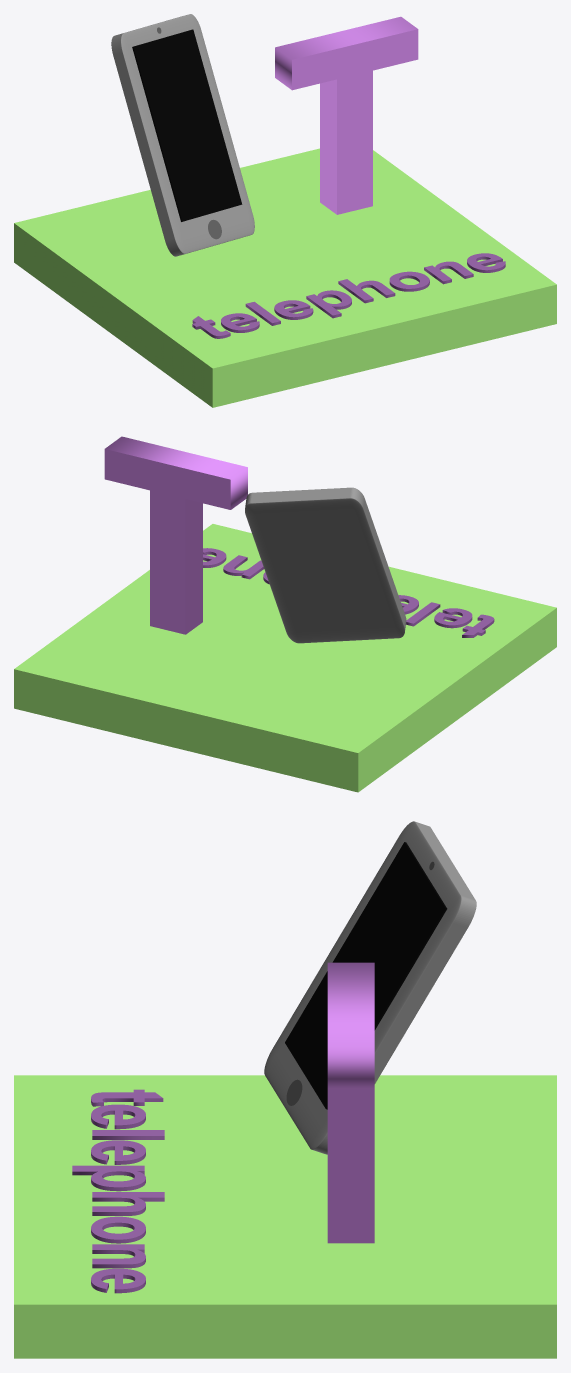
File: tletter.glb
3 views of the same model, one above another, from view 1: azimuth 30°, elevation 25°; view 2: azimuth 150°, elevation 25°; view 3: azimuth 270°, elevation 25° (orthographic). The views are drawn at different scales.
Visible parts, largest first — view 1: Cube.022, Text.003, Cube.002, Cube.001, Text.002; view 2: Cube.022, Cube.001, Text.003, Text.002; view 3: Cube.022, Text.003, Cube.001, Cube.002, Text.002.
Part boxes in pixels (left/top/right/bottom): Cube.022: left=14, top=148, right=556, bottom=407; Text.003: left=275, top=16, right=418, bottom=214; Cube.002: left=132, top=29, right=242, bottom=221; Cube.001: left=111, top=14, right=254, bottom=256; Text.002: left=192, top=253, right=505, bottom=338; Cube.022: left=14, top=524, right=556, bottom=792; Cube.001: left=245, top=487, right=406, bottom=643; Text.003: left=104, top=436, right=247, bottom=634; Text.002: left=203, top=548, right=494, bottom=637; Cube.022: left=14, top=1075, right=556, bottom=1358; Text.003: left=327, top=962, right=374, bottom=1243; Cube.001: left=264, top=821, right=476, bottom=1154; Cube.002: left=285, top=842, right=447, bottom=1109; Text.002: left=72, top=1089, right=164, bottom=1293.
Size of the model in its own units: 0.3237 by 0.2273 by 0.3237.
